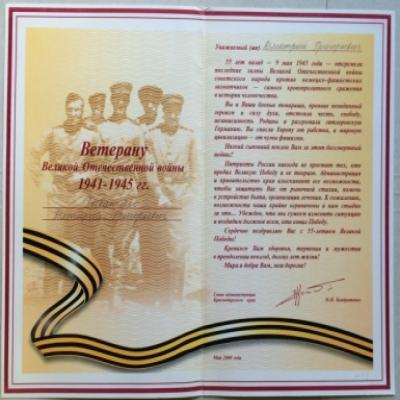document: (3, 7, 394, 396)
